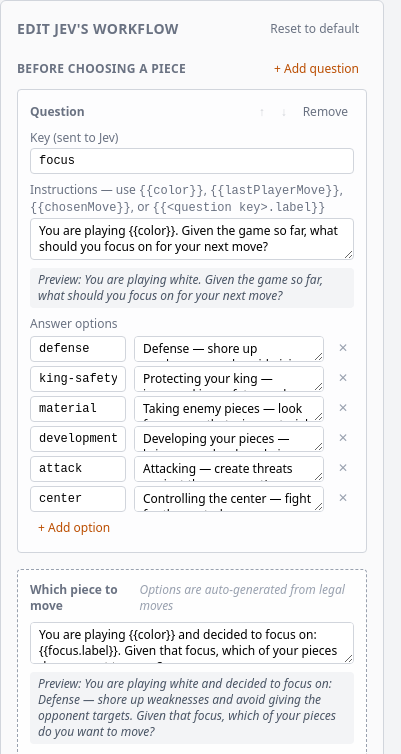
Test: JevWorkflowEditor › adds and removes an answer option on a question
The image size is (401, 754).
Click the button "+ Add option": (74, 528) 30,516 -> 118,540
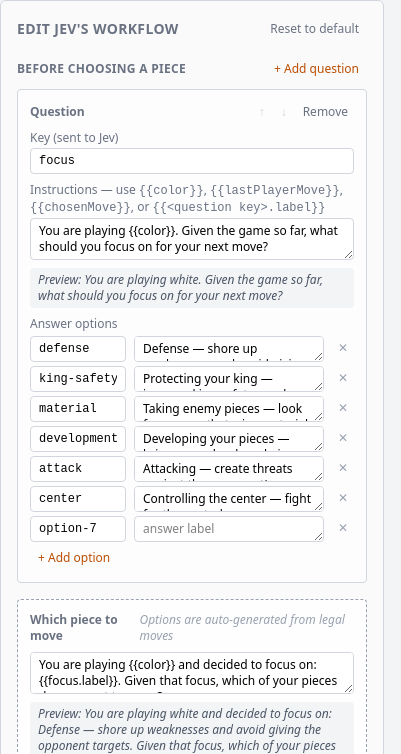
Expected: the number of fields with placeholder "key" is 11
Click the button named "remove option": (343, 348) 332,336 -> 354,360
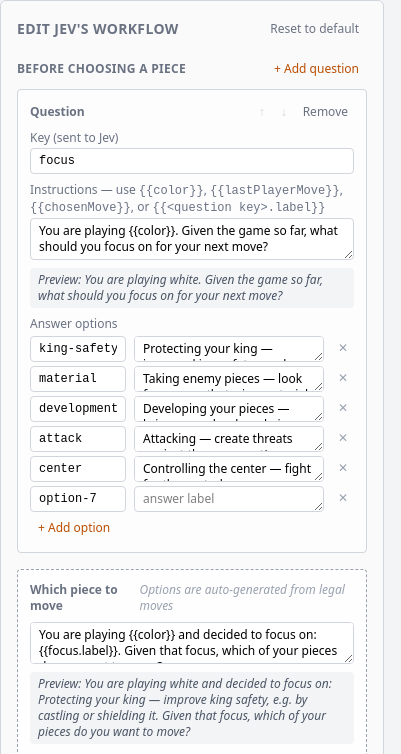
Expected: the number of fields with placeholder "key" is 10
